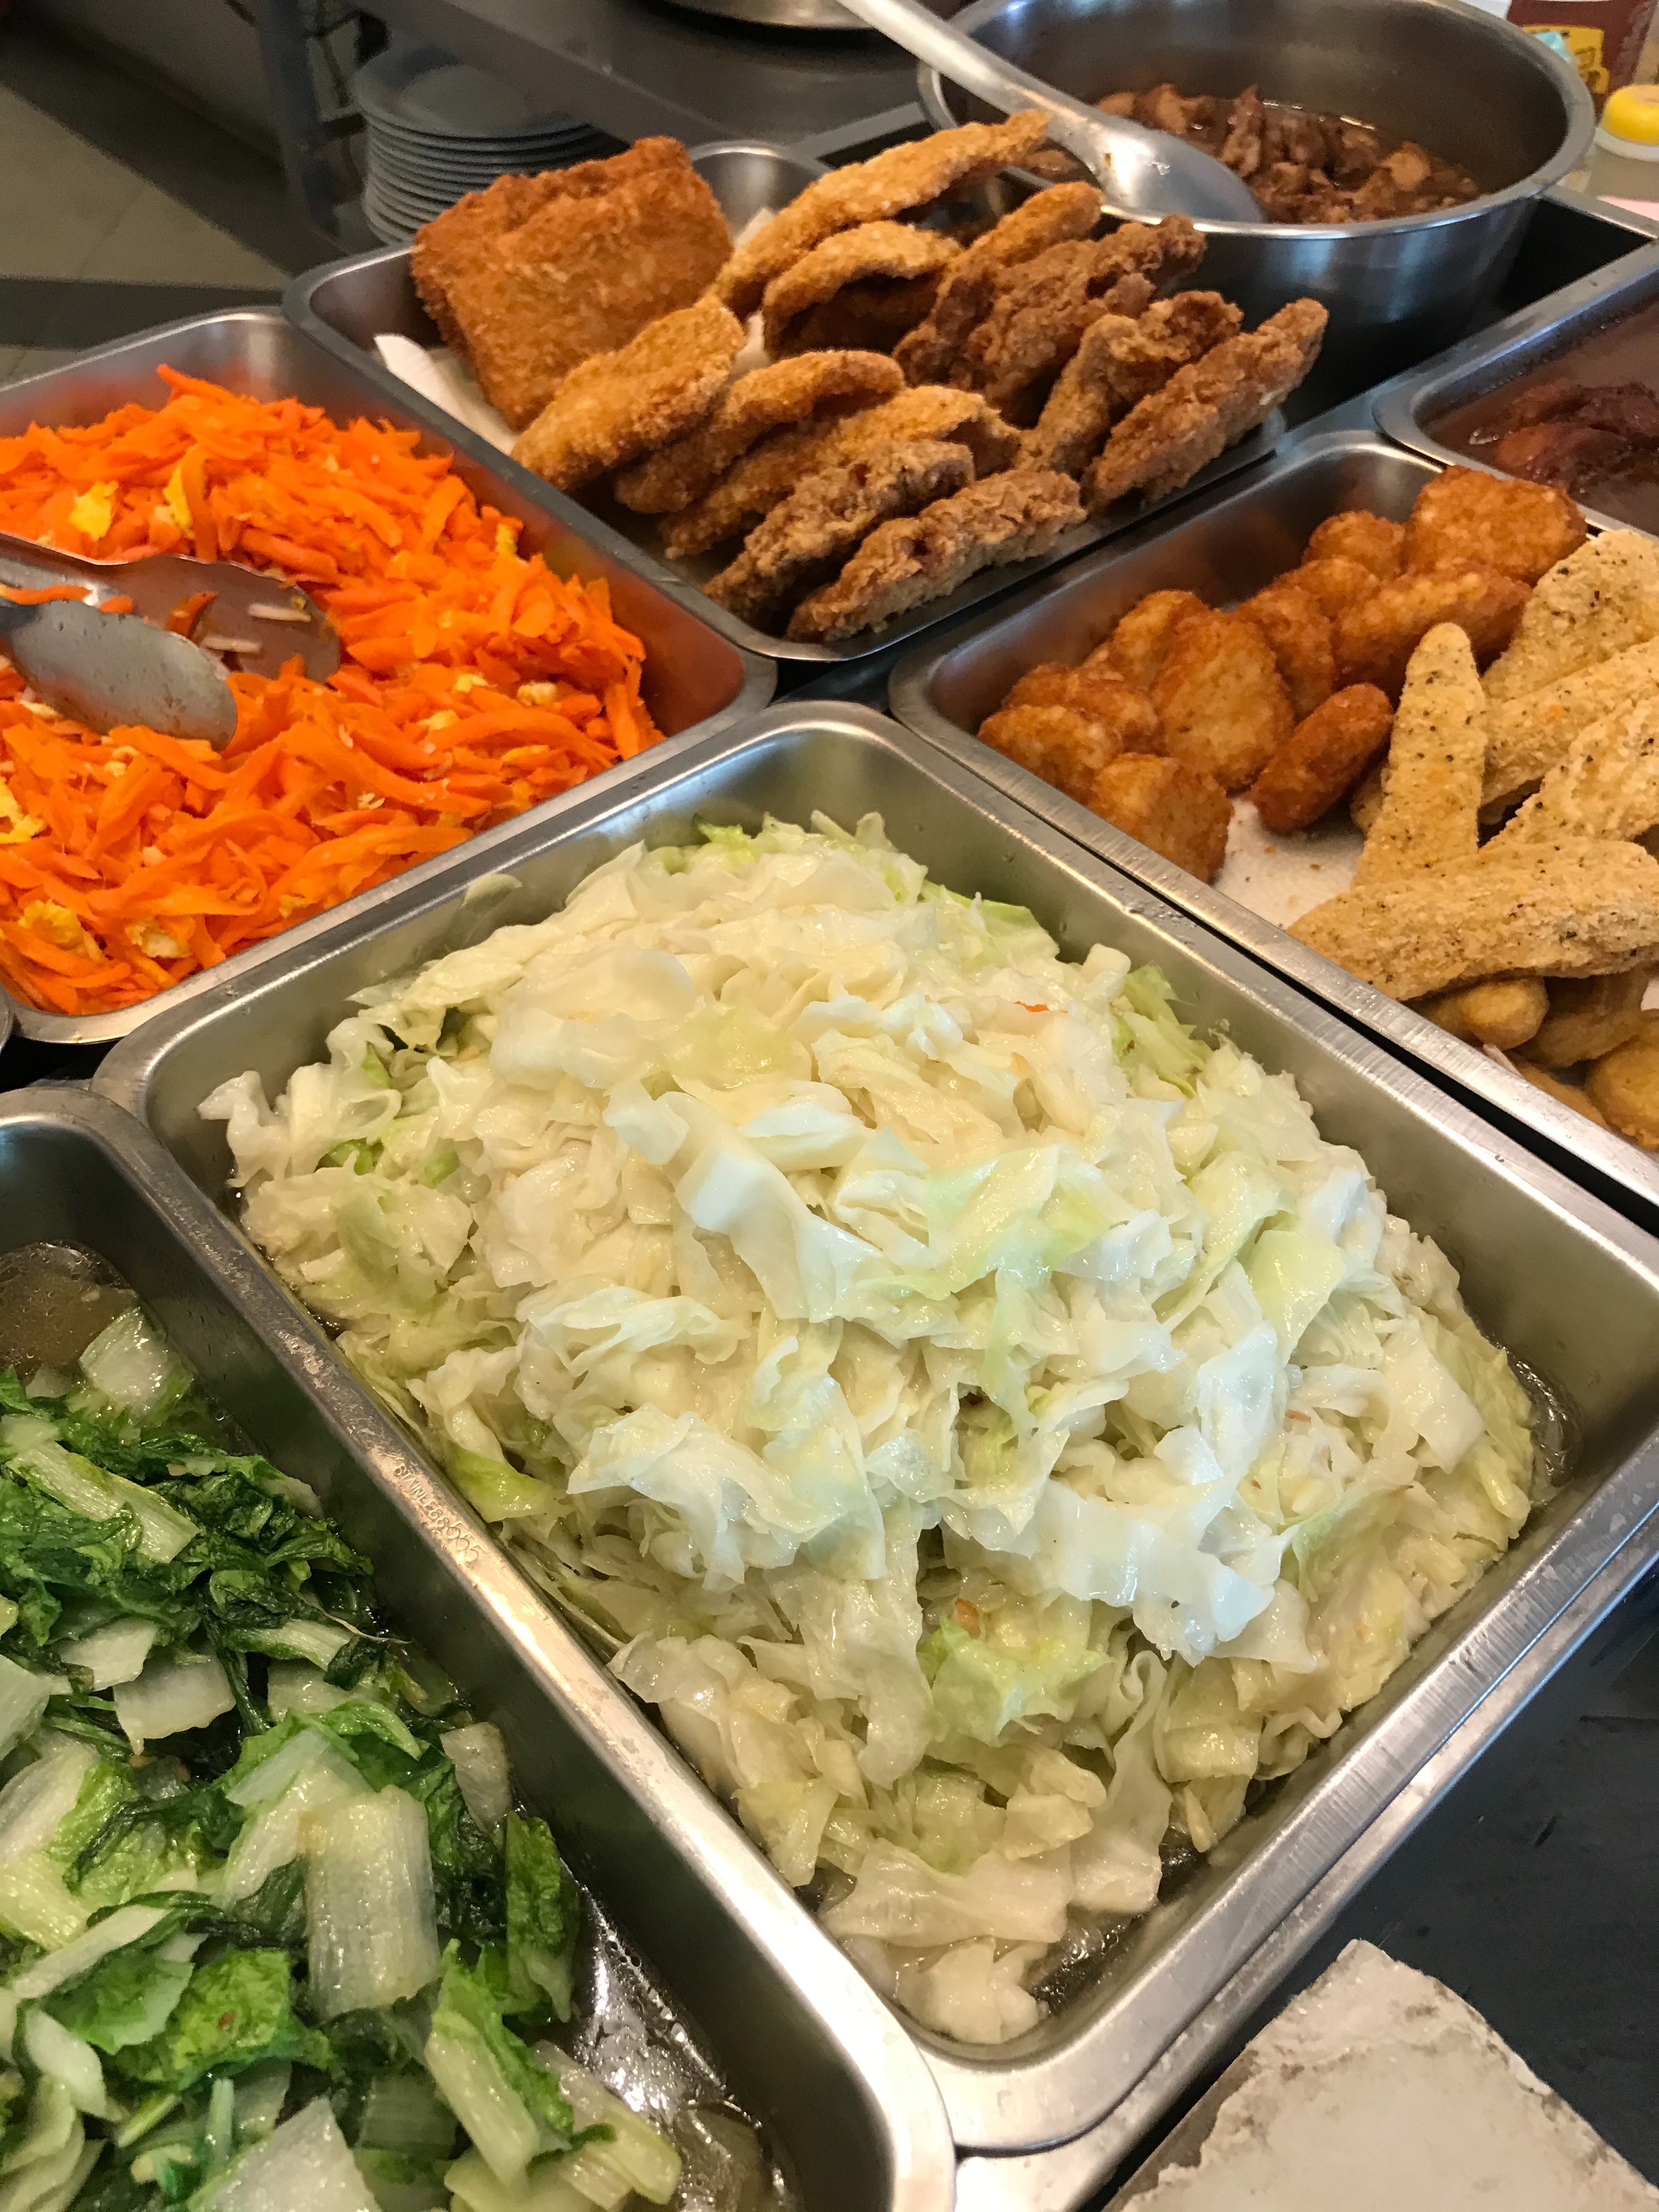carrot_eggs: (0, 425, 488, 902)
chinese_cabbage: (579, 1003, 1258, 1616)
fried_chicken: (552, 131, 1310, 604)
triangle_hash_brown: (1025, 582, 1387, 812)
